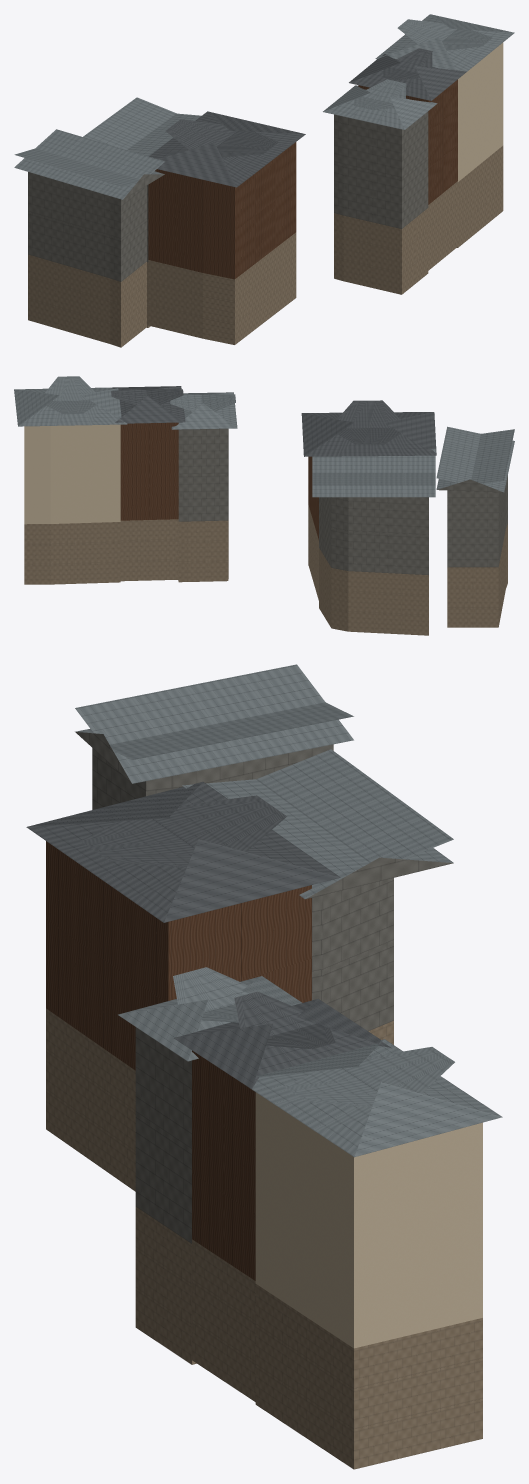
File: bld_c29_-53_549.gltf
The picture shows the model from 3 angles, top to bottom: view 1: azimuth 30°, elevation 25°; view 2: azimuth 150°, elevation 25°; view 3: azimuth 270°, elevation 25°; orthographic projection. The views are drawn at different scales.
Visible parts, largest first — view 1: bld_c29_-53_549; view 2: bld_c29_-53_549; view 3: bld_c29_-53_549.
Boxes of the visible parts, x1=… form: bld_c29_-53_549: x1=14, y1=14, x2=514, y2=347; bld_c29_-53_549: x1=14, y1=376, x2=514, y2=635; bld_c29_-53_549: x1=26, y1=664, x2=502, y2=1469.
Size of the model in its own units: 41.95 by 14.9 by 18.2.
Materials: 7 (7 with a texture image).
